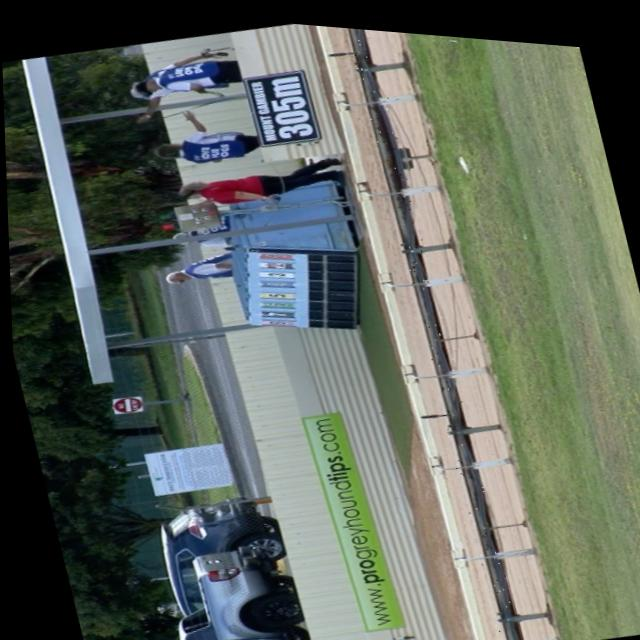rail: (348, 22, 520, 640)
